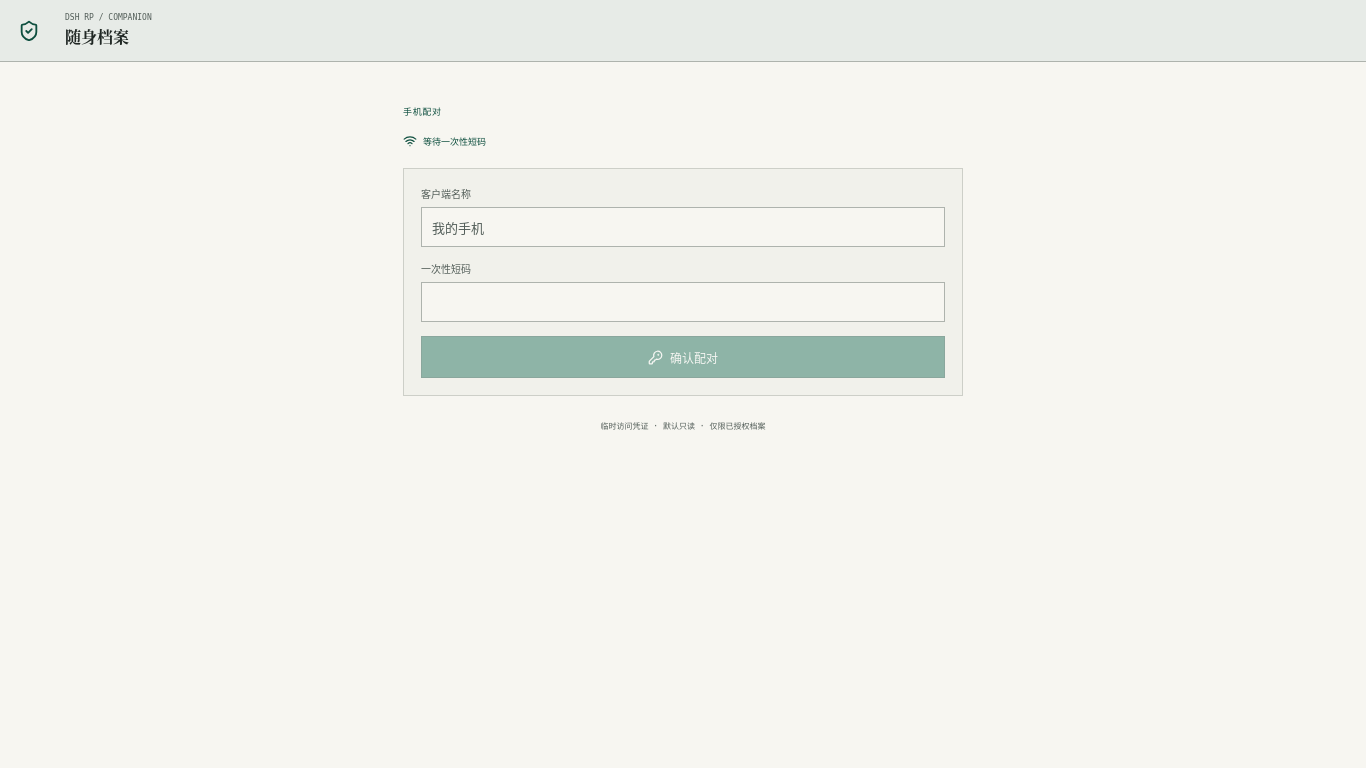
Test: companion session isolation › clears old content on selection, cancels pending reads and ignores inverse responses and old stream events
Type "one-time-code-123456789" into the field named "一次性配对短码".
click(683, 302); type("one-time-code-123456789")  # box [421,282,945,322]
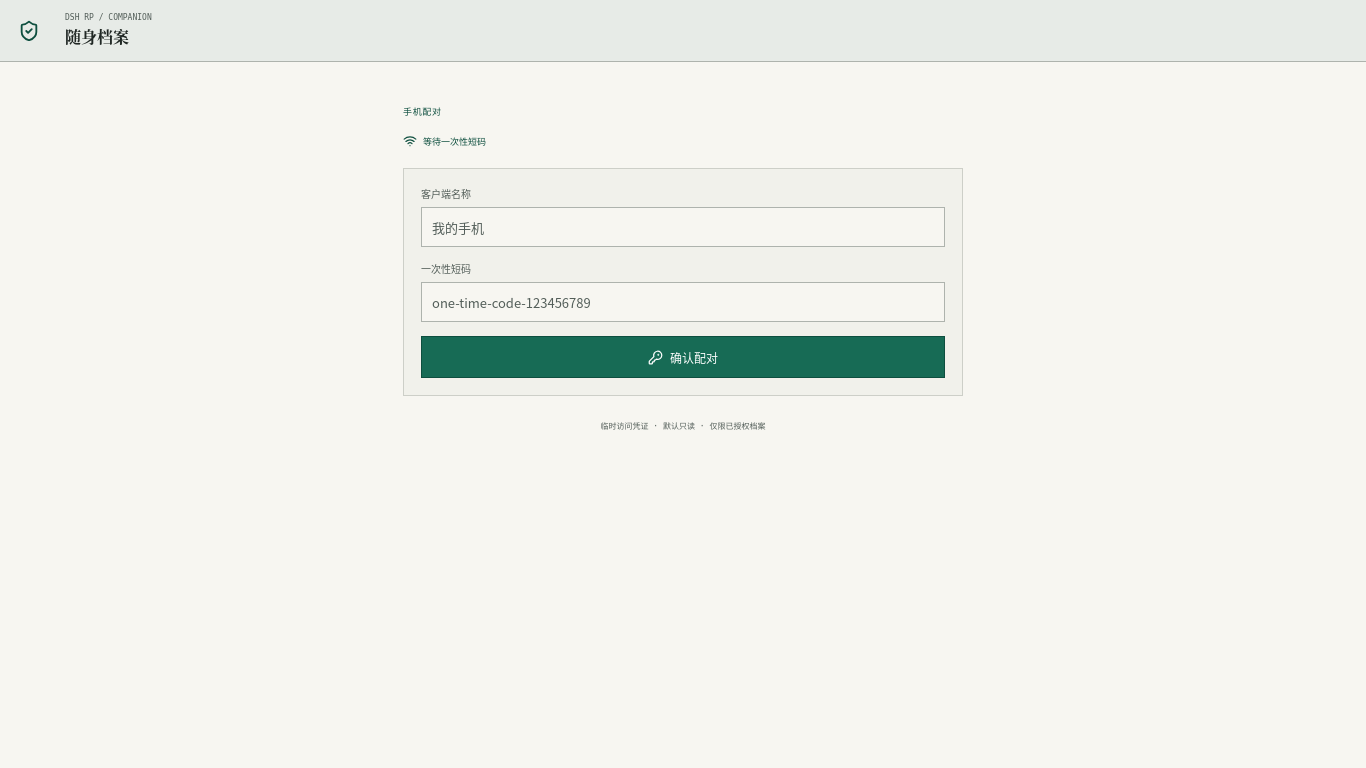
Click the button "确认配对".
click(683, 357)  # box [421,336,945,378]
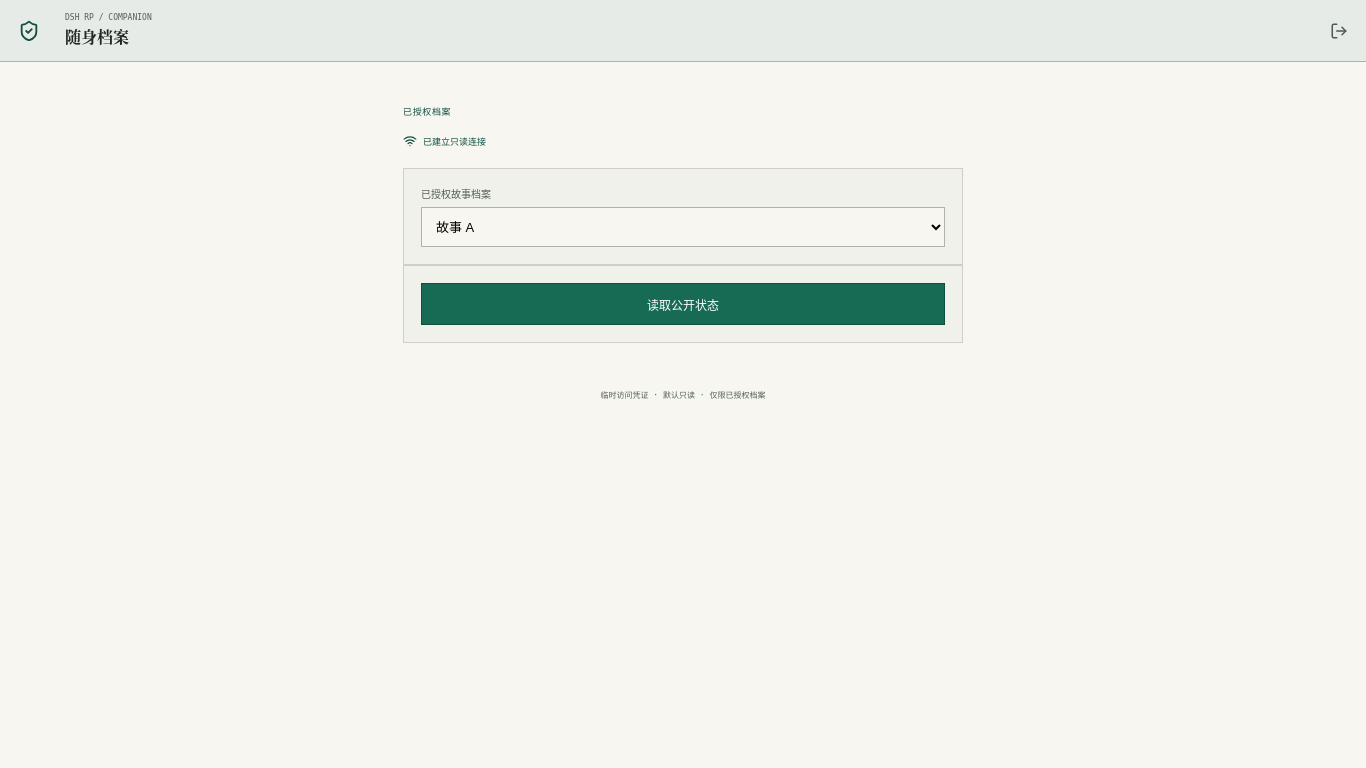
Now the dropdown labelled "已授权故事档案" is shown, box [421,207,945,247]
Click the button "读取公开状态".
click(683, 304)  # box [421,283,945,325]
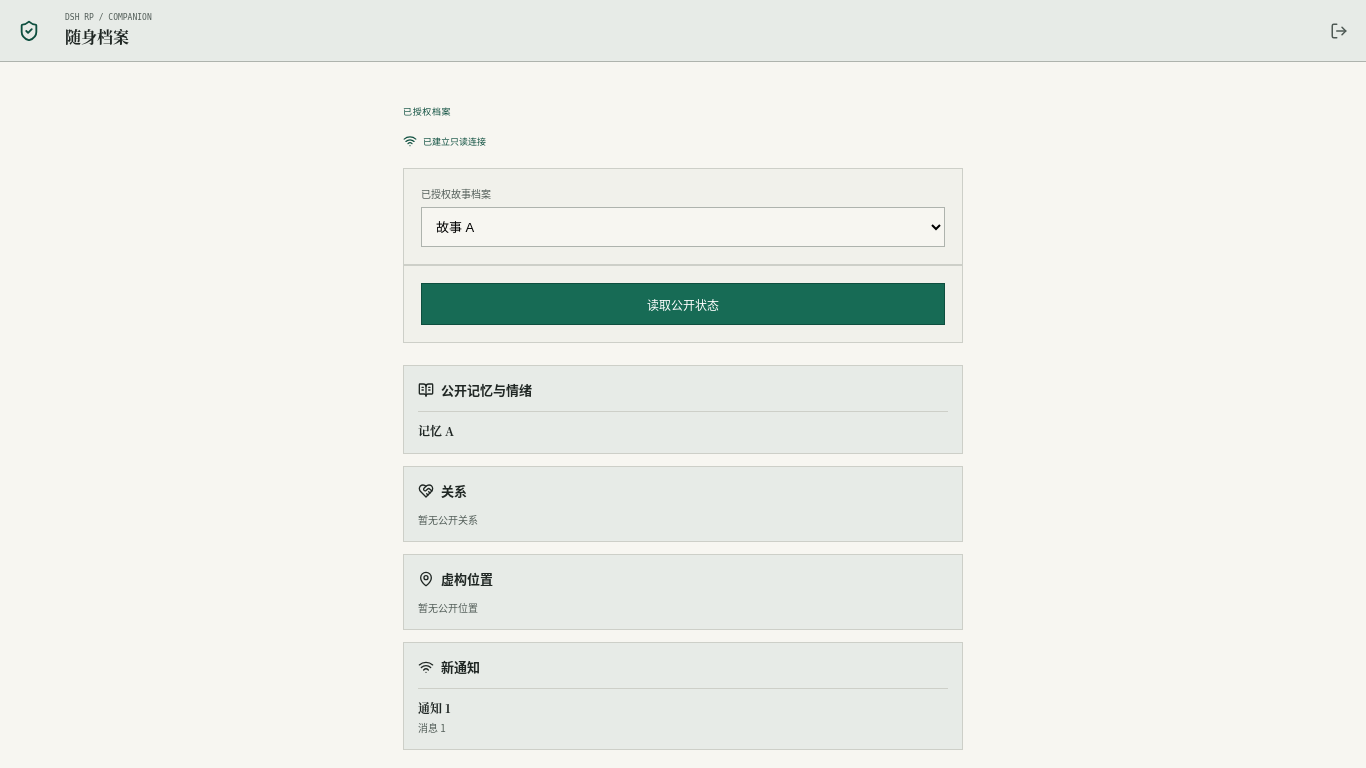
Now the text "记忆 A" is shown, box [418,422,454,439]
Now the text "通知 1" is shown, box [418,699,451,716]
Click the button "读取公开状态".
click(683, 304)  # box [421,283,945,325]
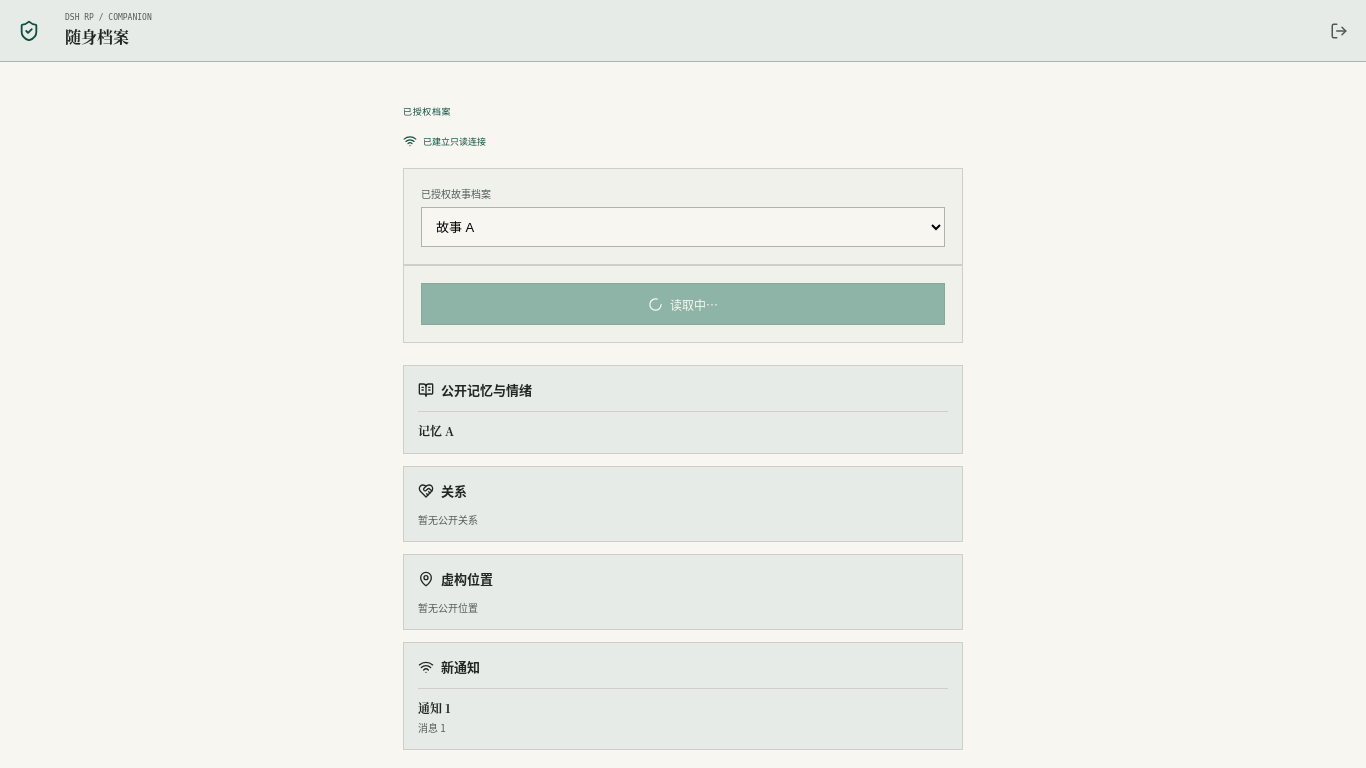
Select "故事 B" in the dropdown labelled "已授权故事档案" at (683, 227), box [421,207,945,247]
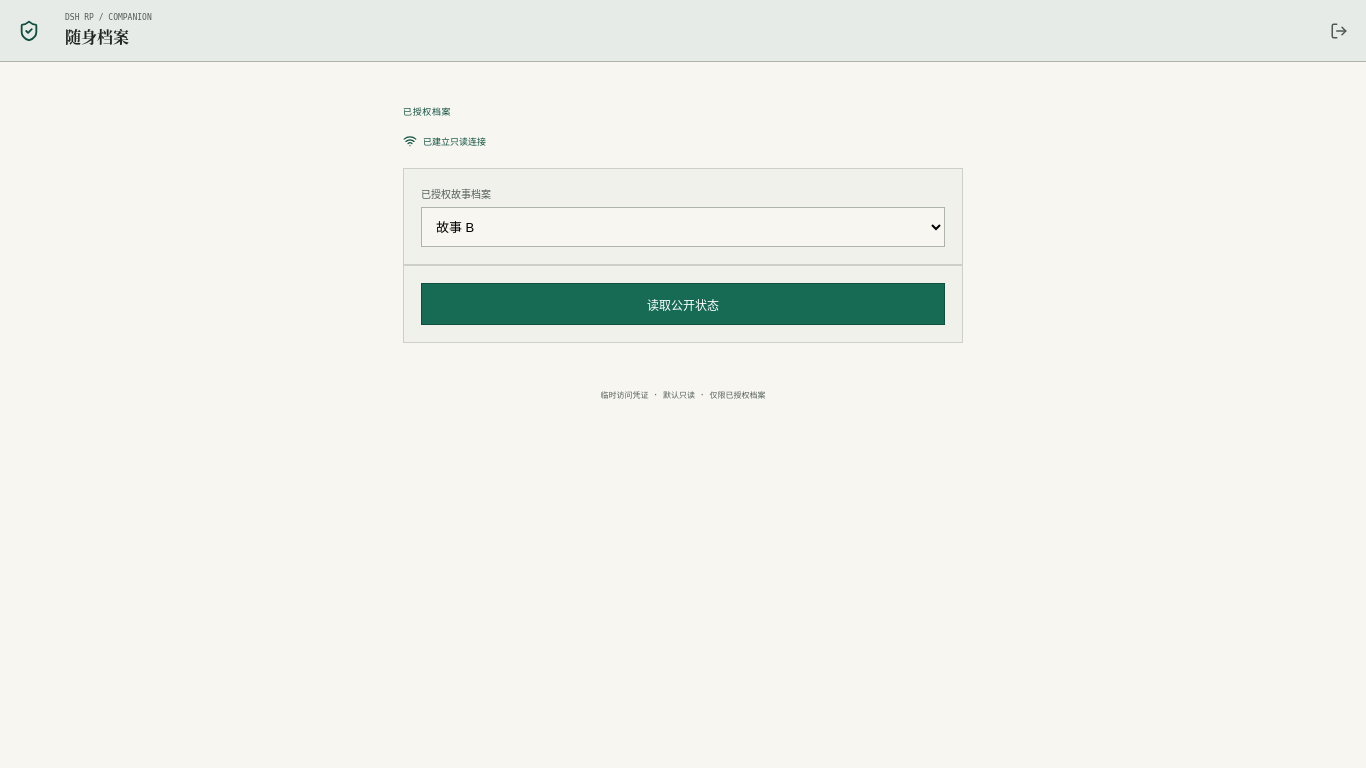
Now the text "记忆 A" is gone
Now the text "通知 1" is gone
Click the button "读取公开状态".
click(683, 304)  # box [421,283,945,325]
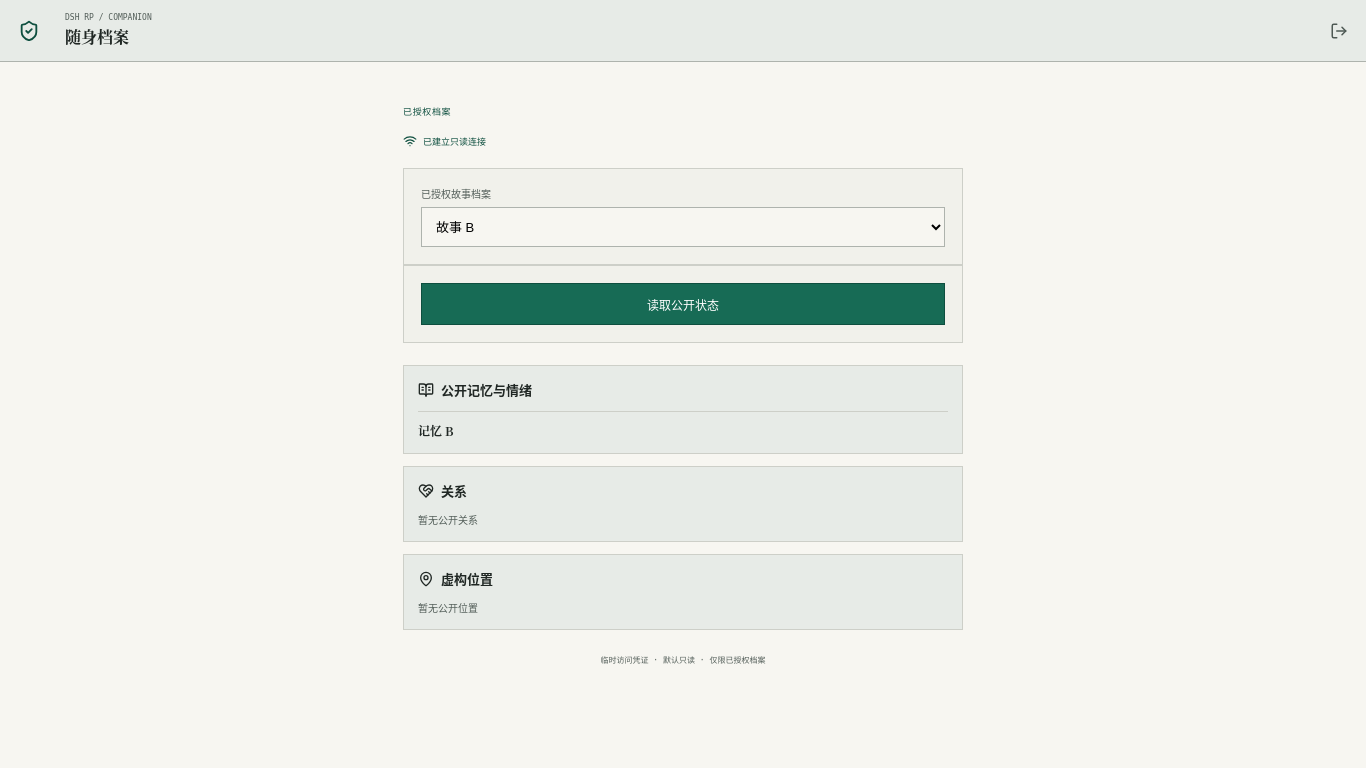
Now the text "记忆 B" is shown, box [418,422,454,439]
